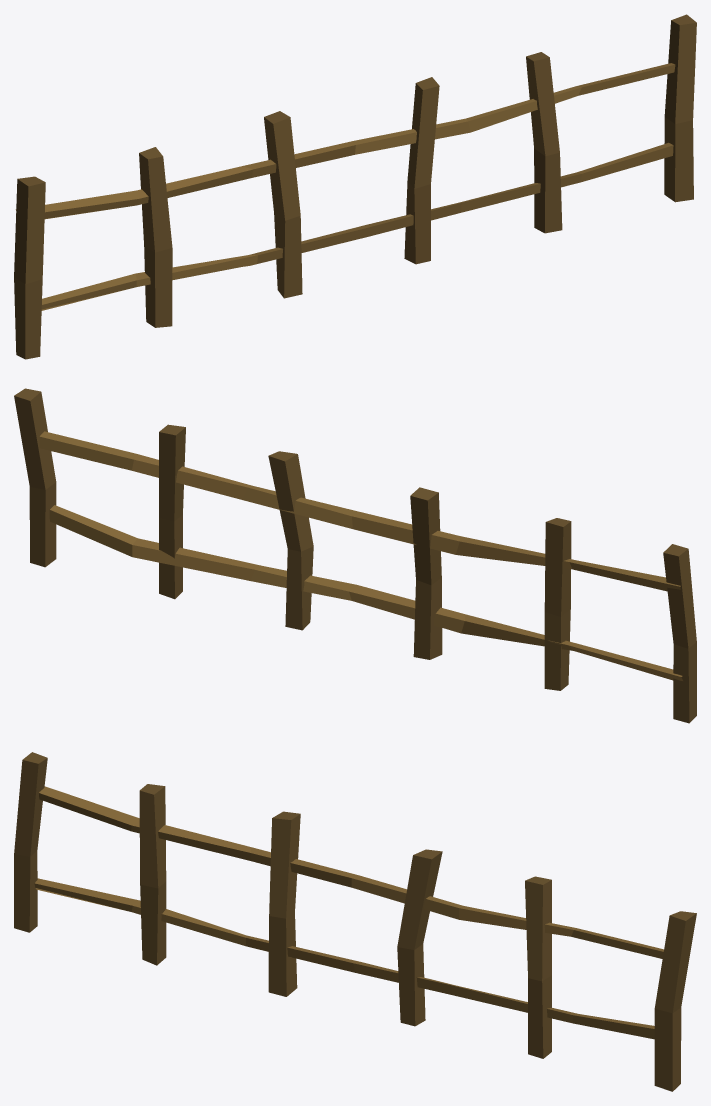
The model's file is wood fence3.fbx.
The picture shows the model from 3 angles, top to bottom: view 1: azimuth 30°, elevation 25°; view 2: azimuth 150°, elevation 25°; view 3: azimuth 330°, elevation 25°; orthographic projection.
Parts seen in each view (by area): view 1: fence3_LOD0; view 2: fence3_LOD0; view 3: fence3_LOD0.
Boxes of the visible parts, x1=… form: fence3_LOD0: x1=14, y1=14, x2=696, y2=359; fence3_LOD0: x1=14, y1=388, x2=696, y2=723; fence3_LOD0: x1=14, y1=752, x2=696, y2=1091.
Size of what is drawn, in the model's own units: 9.51 by 2.31 by 0.462.
